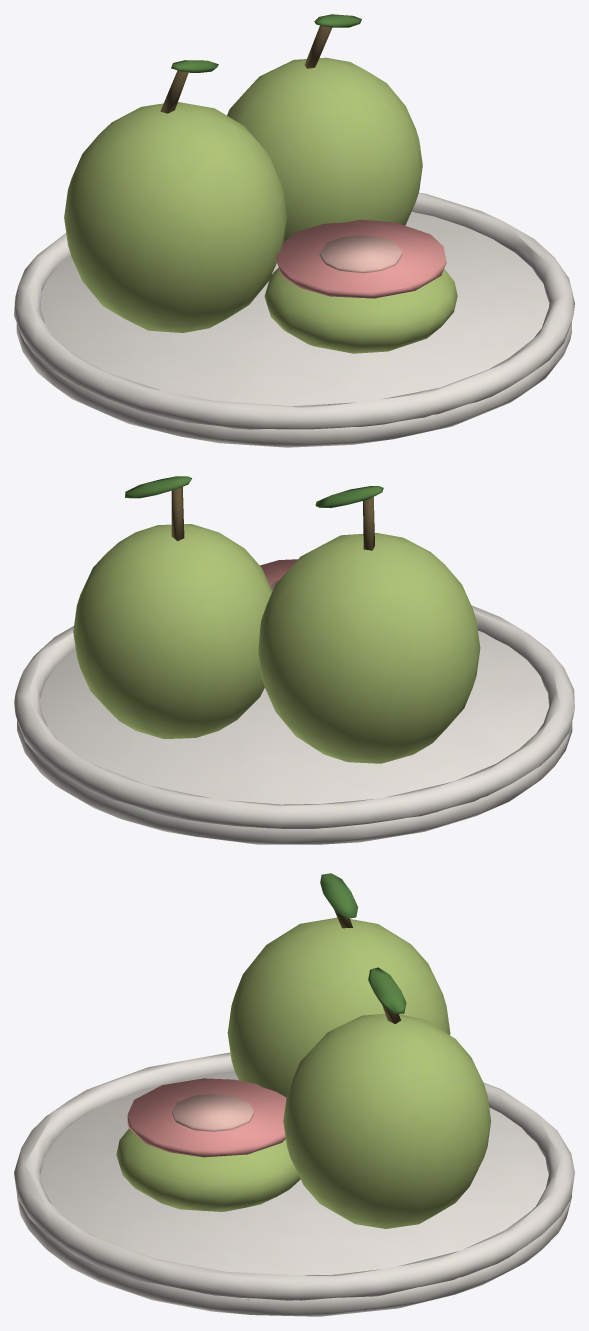
Rendered from keepsake-guava.glb.
The picture shows the model from 3 angles, top to bottom: view 1: azimuth 30°, elevation 25°; view 2: azimuth 150°, elevation 25°; view 3: azimuth 270°, elevation 25°; orthographic projection.
Visible parts, largest first — view 1: keepsake-guava; view 2: keepsake-guava; view 3: keepsake-guava.
Boxes of the visible parts, x1,y1,x2,y2 form: keepsake-guava: (14, 14, 574, 447); keepsake-guava: (14, 476, 574, 844); keepsake-guava: (14, 873, 574, 1316).
Bounding box in the file's own units: 0.15 × 0.0825 × 0.1499.
1 material, 1 textured.
